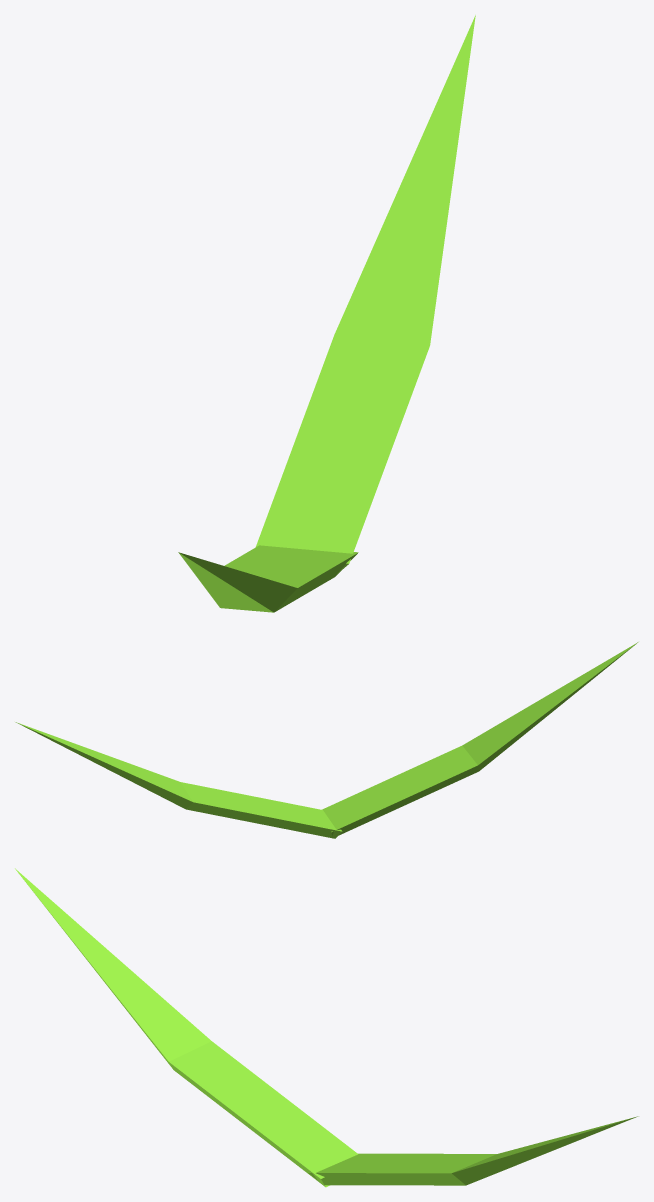
The model's file is Grass_33.fbx.
The picture shows the model from 3 angles, top to bottom: view 1: azimuth 30°, elevation 25°; view 2: azimuth 150°, elevation 25°; view 3: azimuth 270°, elevation 25°; orthographic projection. The views are drawn at different scales.
Visible parts, largest first — view 1: Grass_33; view 2: Grass_33; view 3: Grass_33.
Part boxes in pixels (bbox=[...]): Grass_33: bbox=[178, 15, 475, 612]; Grass_33: bbox=[15, 642, 638, 838]; Grass_33: bbox=[15, 868, 638, 1187].
Size of the model in its own units: 68.99 by 25.11 by 73.58.
